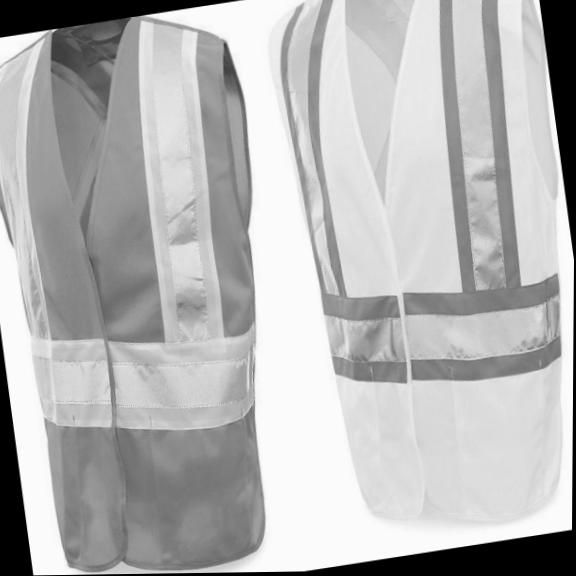safety_vest: (0, 0, 309, 576), (256, 0, 576, 551)
